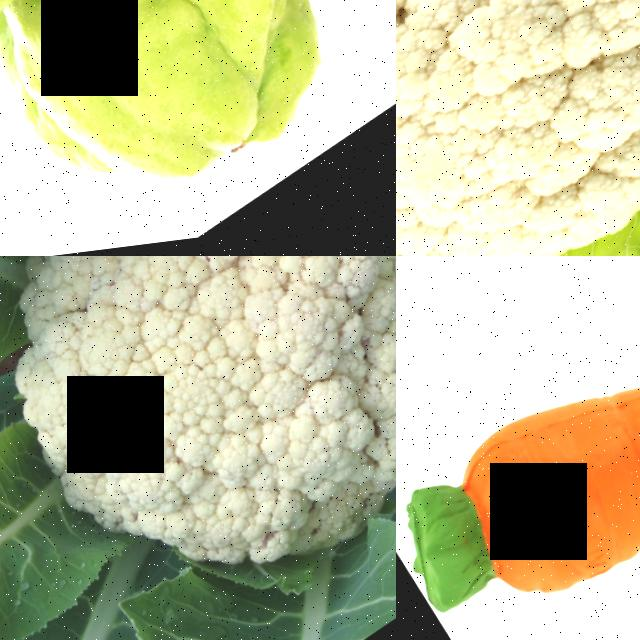carrot: (396, 256, 640, 640)
cauliflower: (0, 256, 396, 640), (396, 0, 640, 256)
chayote: (0, 0, 372, 248), (0, 0, 324, 74)
